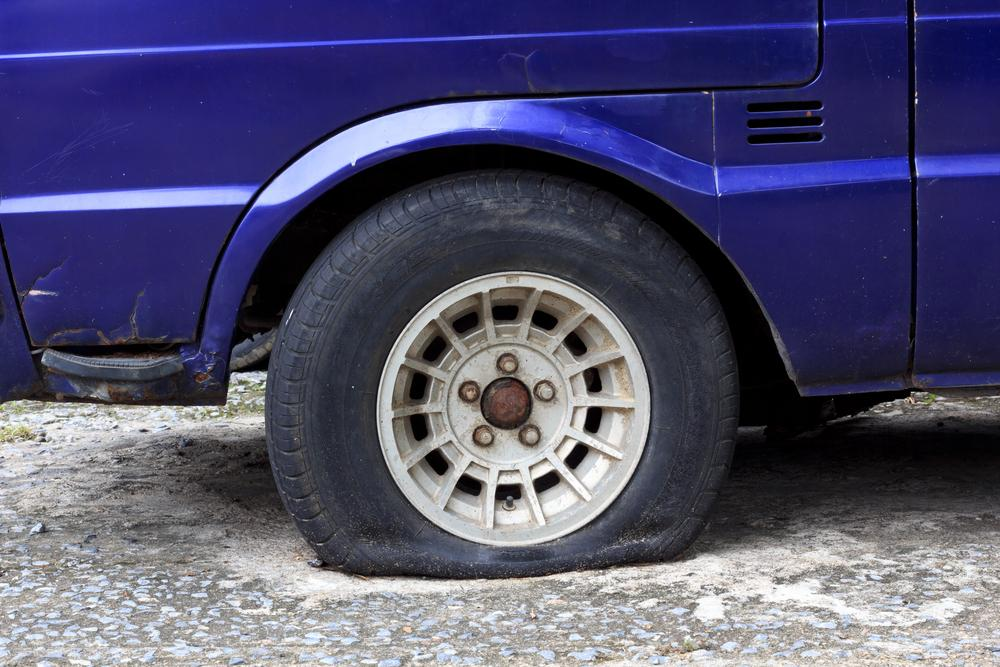tire flat: (266, 164, 741, 584)
